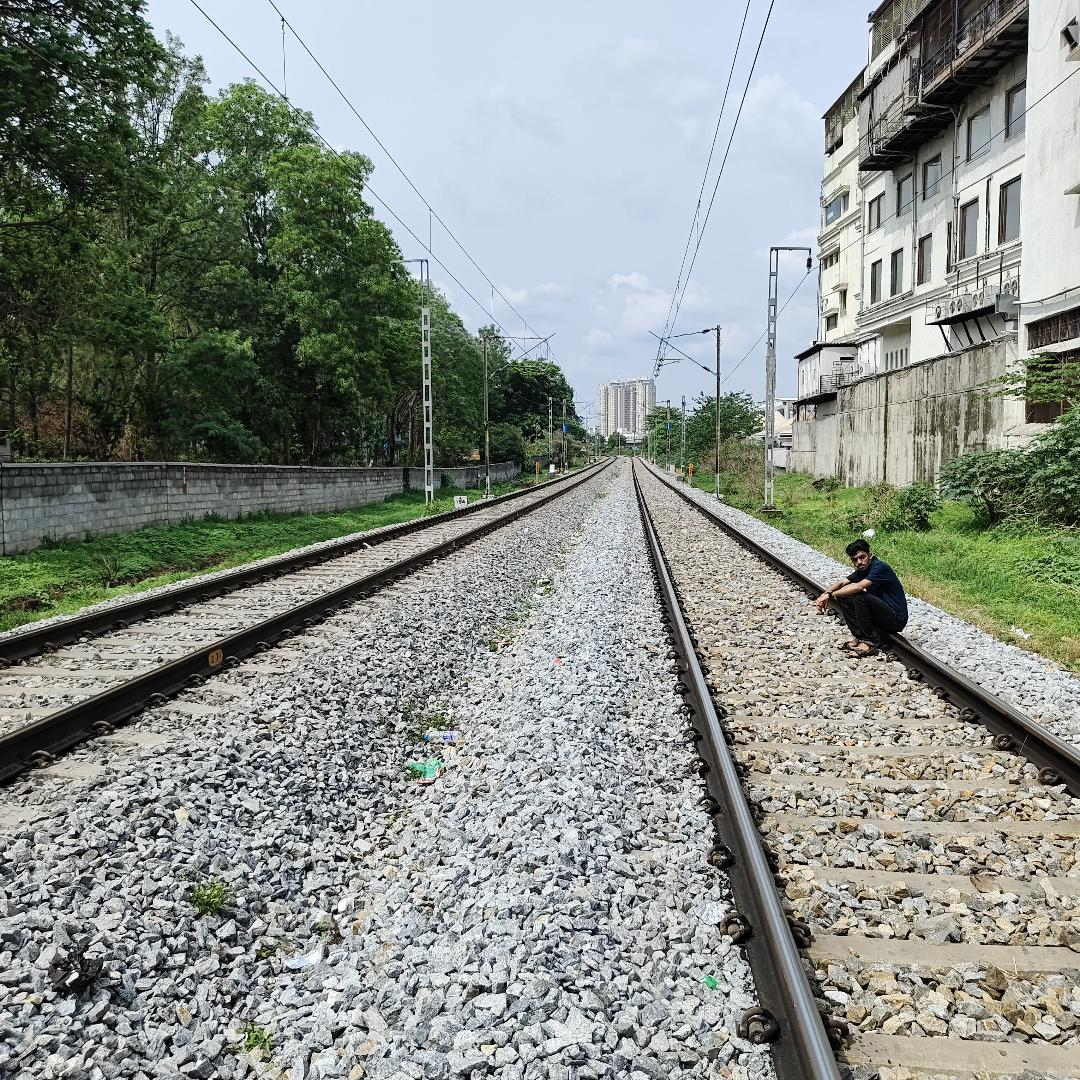sitting: (814, 527, 920, 677)
track: (623, 453, 1080, 1080), (0, 449, 616, 848)
